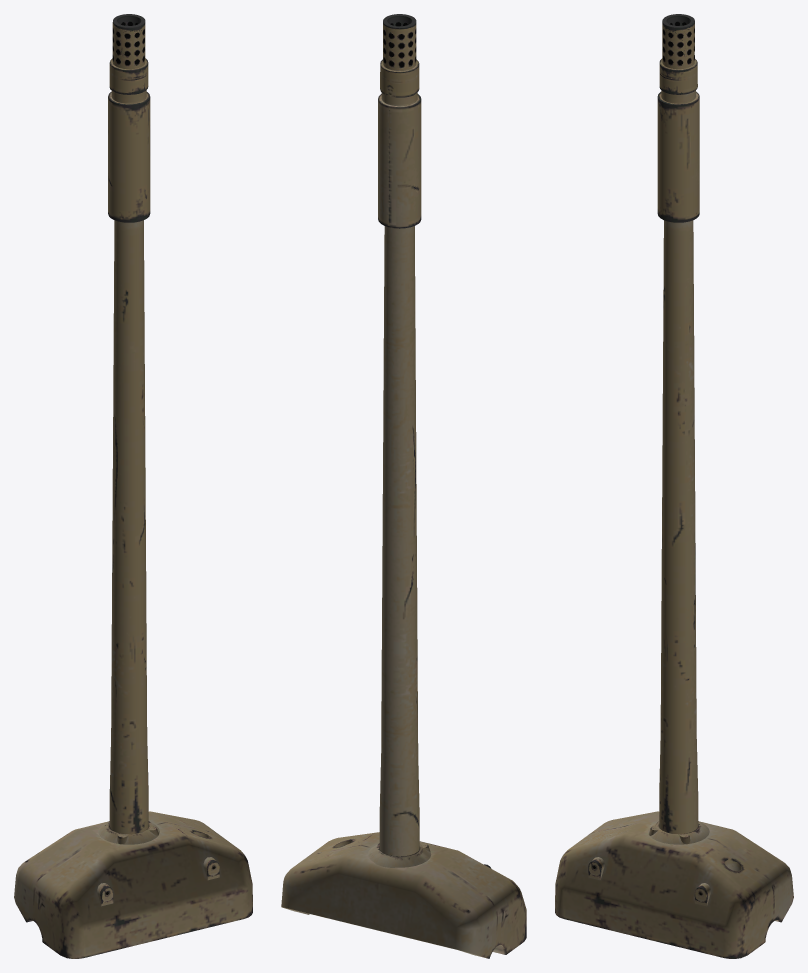
Rendered from Gun_010.glb.
3 views of the same model, side by side, from view 1: azimuth 30°, elevation 25°; view 2: azimuth 150°, elevation 25°; view 3: azimuth 330°, elevation 25° (orthographic). The views are drawn at different scales.
Visible parts, largest first — view 1: set_0_group_0; view 2: set_0_group_0; view 3: set_0_group_0.
Part boxes in pixels (box(x1,y1,x2,y2)): set_0_group_0: box(14, 14, 252, 958); set_0_group_0: box(281, 14, 526, 958); set_0_group_0: box(555, 14, 793, 958).
Bounding box in the file's own units: 1.25 × 5.62 × 0.7004.
1 material, 1 textured.
